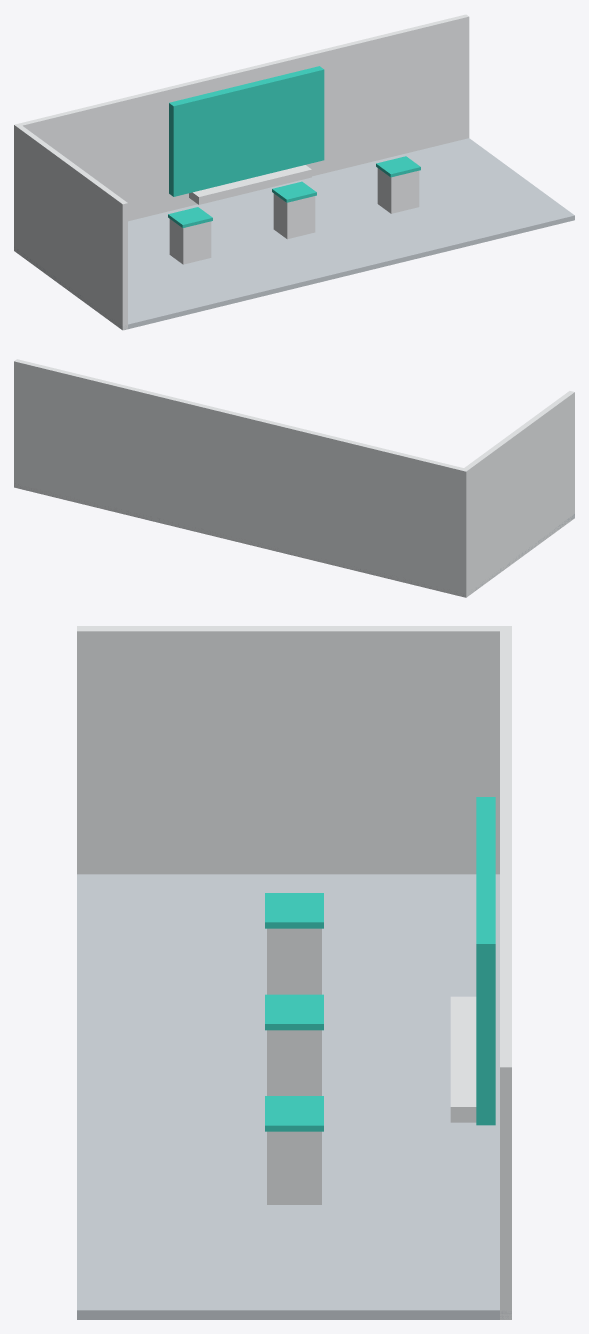
3 views of the same model, one above another, from view 1: azimuth 30°, elevation 25°; view 2: azimuth 150°, elevation 25°; view 3: azimuth 270°, elevation 25° (orthographic). The views are drawn at different scales.
Visible parts, largest first — view 1: Exhibition Booth Concept; view 2: Exhibition Booth Concept; view 3: Exhibition Booth Concept.
Part boxes in pixels (bbox=[...]): Exhibition Booth Concept: bbox=[14, 14, 574, 330]; Exhibition Booth Concept: bbox=[14, 359, 574, 597]; Exhibition Booth Concept: bbox=[77, 626, 511, 1319].
Bounding box in the file's own units: 12 × 3.2 × 5.
